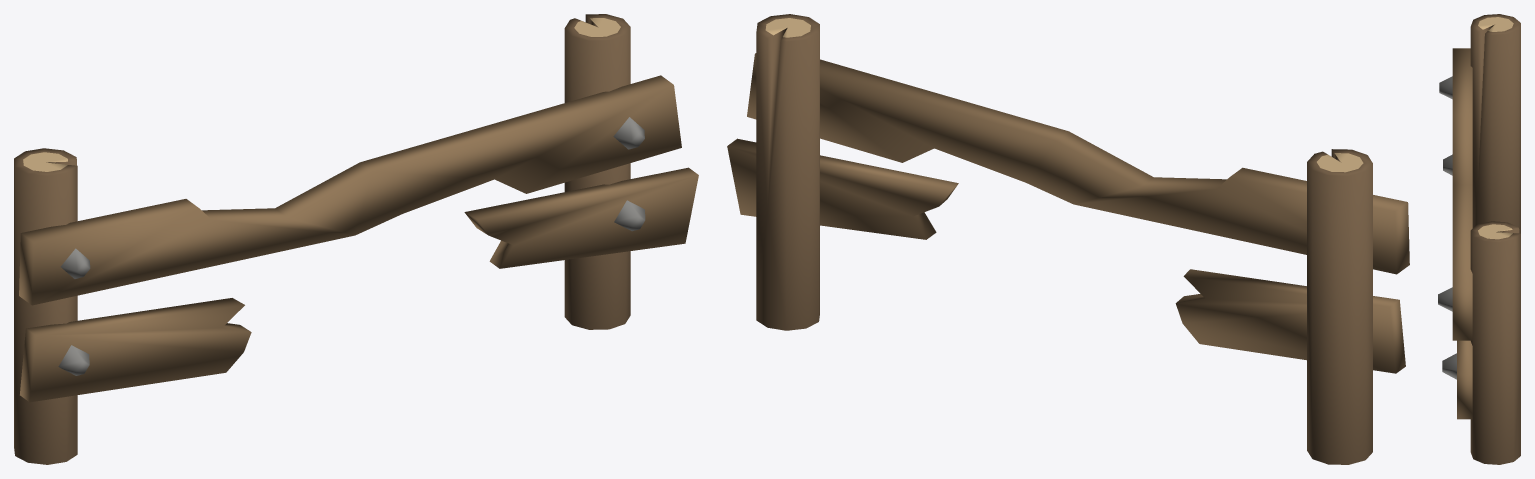
The model's file is rpgpp_av_fence_02c_3m.gltf.
The picture shows the model from 3 angles, left to right: view 1: azimuth 30°, elevation 25°; view 2: azimuth 150°, elevation 25°; view 3: azimuth 270°, elevation 25°; orthographic projection. The views are drawn at different scales.
Parts seen in each view (by area): view 1: rpgpp_av_fence_02c_3m; view 2: rpgpp_av_fence_02c_3m; view 3: rpgpp_av_fence_02c_3m.
Part boxes in pixels (<box>): rpgpp_av_fence_02c_3m: <box>14,14,698,464</box>; rpgpp_av_fence_02c_3m: <box>727,14,1409,464</box>; rpgpp_av_fence_02c_3m: <box>1438,14,1520,464</box>.
Bounding box in the file's own units: 0.0326 × 0.0135 × 0.00454.
1 material, 1 textured.
